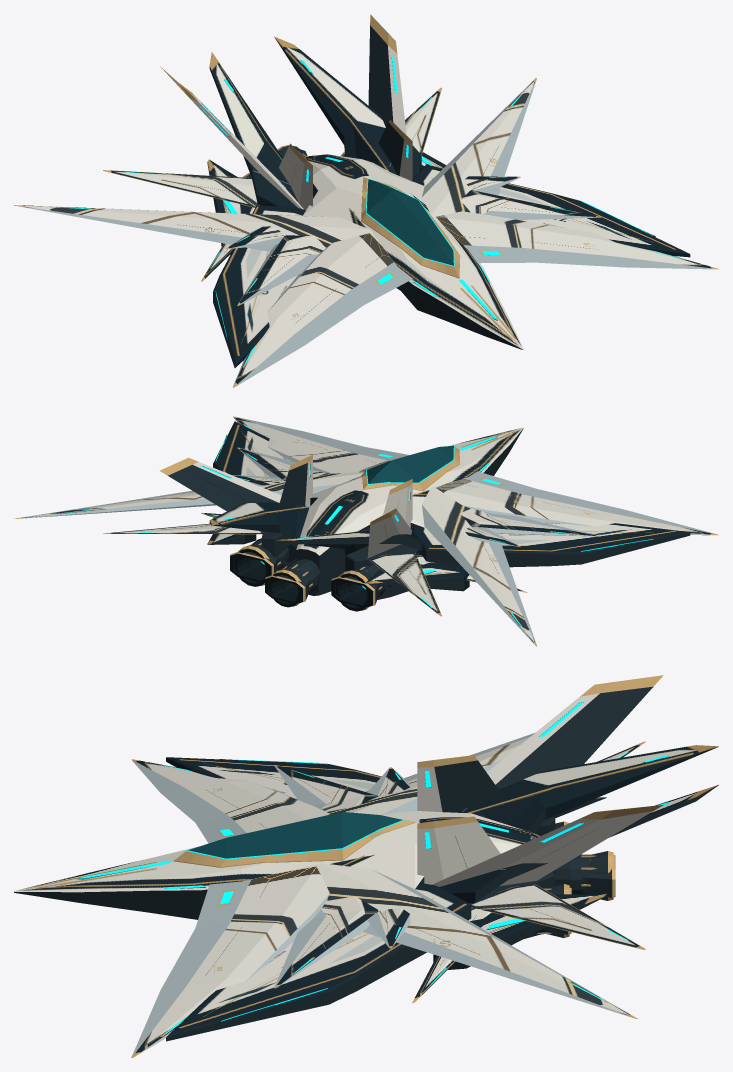
Rendered from R18_LIBRARY_AURUM.glb.
3 views of the same model, one above another, from view 1: azimuth 30°, elevation 25°; view 2: azimuth 150°, elevation 25°; view 3: azimuth 270°, elevation 25° (orthographic). The views are drawn at different scales.
Visible parts, largest first — view 1: A01_Central_Faceted_Monocoque, W02A_Full_Wing_L, W02A_Full_Wing_R, W03_Full_Wing_L, W03_Full_Wing_R, B01_MainWing_L, C02_Swept_Dorsal_Keel_R, B01_MainWing_R, C02_Swept_Dorsal_Keel_L, D02_Canopy_Closed_Faceted_Glass, T02_Canted_Fin_R, W02B_Full_Wing_L (+10 smaller); view 2: A01_Central_Faceted_Monocoque, W02A_Full_Wing_L, B01_MainWing_L, W03_Full_Wing_L, W02A_Full_Wing_R, T02_Canted_Fin_R, W03_Full_Wing_R, C02_Swept_Dorsal_Keel_R, B01_MainWing_R, D02_Canopy_Closed_Faceted_Glass, W02B_Full_Wing_L, A02_Blade_L (+19 smaller); view 3: W02A_Full_Wing_R, A01_Central_Faceted_Monocoque, B01_MainWing_R, W03_Full_Wing_R, C02_Swept_Dorsal_Keel_L, W02A_Full_Wing_L, T02_Canted_Fin_L, T02_Canted_Fin_R, D02_Canopy_Closed_Faceted_Glass, T03_Canted_Fin_R, A02_Blade_R, W02B_Full_Wing_R (+12 smaller).
Boxes of the visible parts, x1=… form: A01_Central_Faceted_Monocoque: x1=303, y1=154, x2=523, y2=349; W02A_Full_Wing_L: x1=233, y1=233, x2=412, y2=387; W02A_Full_Wing_R: x1=436, y1=211, x2=718, y2=269; W03_Full_Wing_L: x1=14, y1=205, x2=380, y2=251; W03_Full_Wing_R: x1=422, y1=78, x2=536, y2=227; B01_MainWing_L: x1=213, y1=205, x2=305, y2=367; C02_Swept_Dorsal_Keel_R: x1=274, y1=36, x2=421, y2=178; B01_MainWing_R: x1=412, y1=164, x2=690, y2=257; C02_Swept_Dorsal_Keel_L: x1=209, y1=52, x2=313, y2=207; D02_Canopy_Closed_Faceted_Glass: x1=366, y1=179, x2=453, y2=265; T02_Canted_Fin_R: x1=368, y1=14, x2=406, y2=134; W02B_Full_Wing_L: x1=237, y1=235, x2=325, y2=305; A01_Central_Faceted_Monocoque: x1=296, y1=427, x2=523, y2=595; W02A_Full_Wing_L: x1=436, y1=471, x2=718, y2=535; B01_MainWing_L: x1=411, y1=521, x2=690, y2=567; W03_Full_Wing_L: x1=422, y1=483, x2=536, y2=646; W02A_Full_Wing_R: x1=233, y1=416, x2=409, y2=473; T02_Canted_Fin_R: x1=159, y1=457, x2=281, y2=532; W03_Full_Wing_R: x1=14, y1=472, x2=363, y2=518; C02_Swept_Dorsal_Keel_R: x1=209, y1=502, x2=309, y2=548; B01_MainWing_R: x1=213, y1=421, x2=289, y2=476; D02_Canopy_Closed_Faceted_Glass: x1=366, y1=445, x2=453, y2=483; W02B_Full_Wing_L: x1=461, y1=508, x2=600, y2=536; A02_Blade_L: x1=369, y1=553, x2=441, y2=616; W02A_Full_Wing_R: x1=131, y1=866, x2=329, y2=1057; A01_Central_Faceted_Monocoque: x1=14, y1=810, x2=555, y2=919; B01_MainWing_R: x1=166, y1=883, x2=471, y2=1041; W03_Full_Wing_R: x1=288, y1=863, x2=637, y2=1018; C02_Swept_Dorsal_Keel_L: x1=458, y1=745, x2=718, y2=833; W02A_Full_Wing_L: x1=131, y1=759, x2=329, y2=843; T02_Canted_Fin_L: x1=487, y1=675, x2=663, y2=789; T02_Canted_Fin_R: x1=432, y1=805, x2=662, y2=886; D02_Canopy_Closed_Faceted_Glass: x1=188, y1=812, x2=402, y2=858; T03_Canted_Fin_R: x1=417, y1=816, x2=500, y2=884; A02_Blade_R: x1=471, y1=884, x2=645, y2=949; W02B_Full_Wing_R: x1=274, y1=896, x2=378, y2=988.
Size of the model in its own units: 10.84 by 2.66 by 10.06.
27 materials, 19 textured.
